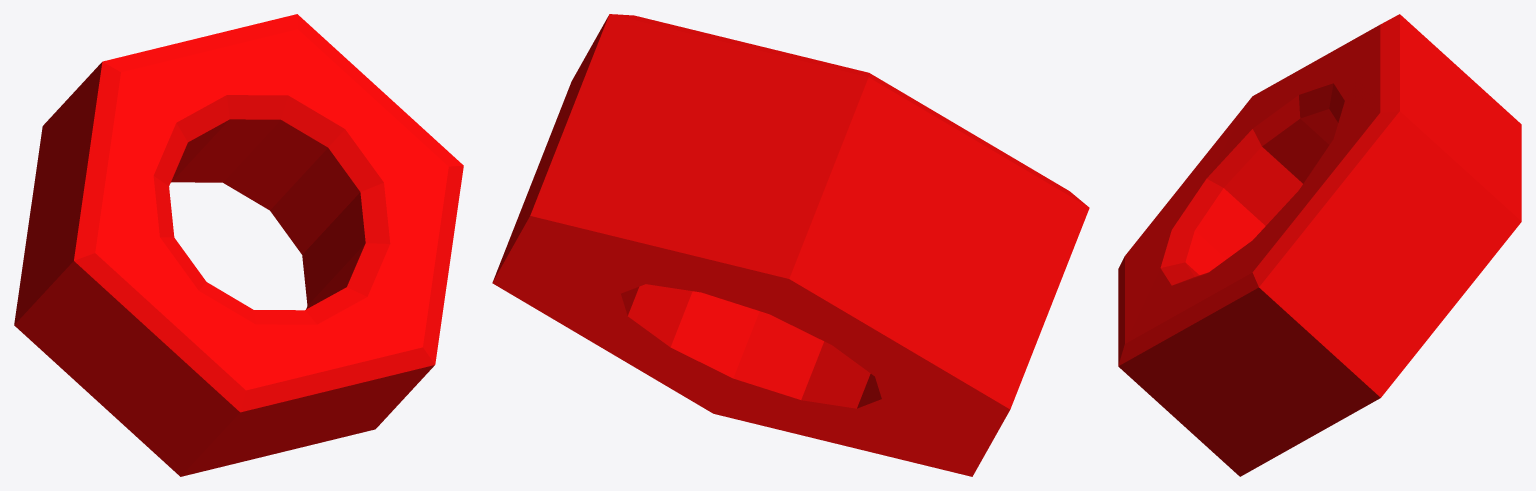
3 views of the same model, side by side, from view 1: azimuth 30°, elevation 25°; view 2: azimuth 150°, elevation 25°; view 3: azimuth 270°, elevation 25° (orthographic). The views are drawn at different scales.
Visible parts, largest first — view 1: Joint_0_Object_0; view 2: Joint_0_Object_0; view 3: Joint_0_Object_0.
Boxes of the visible parts, <box> form: Joint_0_Object_0: <box>14,14,463,476</box>; Joint_0_Object_0: <box>492,14,1089,476</box>; Joint_0_Object_0: <box>1118,14,1521,476</box>.
Bounding box in the file's own units: 241 × 211 × 211.
